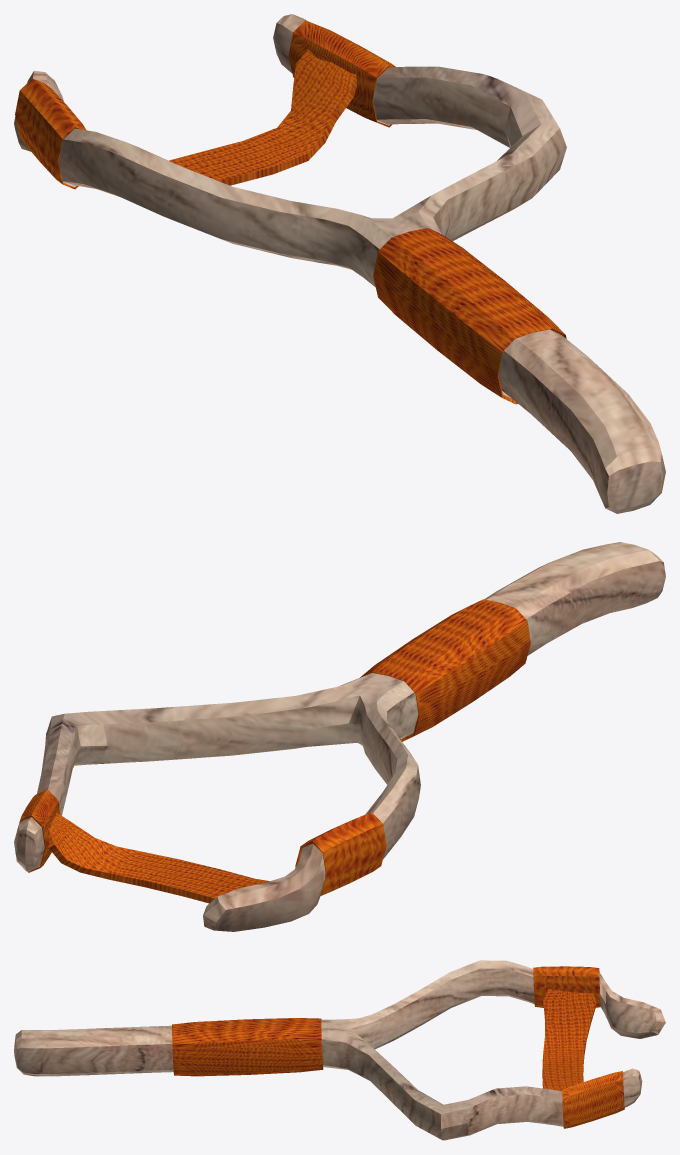
Rendered from Slingshot.fbx.
3 renders of one model, top to bottom at view 1: azimuth 30°, elevation 25°; view 2: azimuth 150°, elevation 25°; view 3: azimuth 270°, elevation 25°, orthographic. The views are drawn at different scales.
Visible parts, largest first — view 1: Cube; view 2: Cube; view 3: Cube.
Boxes of the visible parts, x1,y1,x2,y2 form: Cube: (14,14,665,513); Cube: (14,542,665,931); Cube: (14,960,665,1140).
Size of the model in its own units: 216 by 57.81 by 467.
